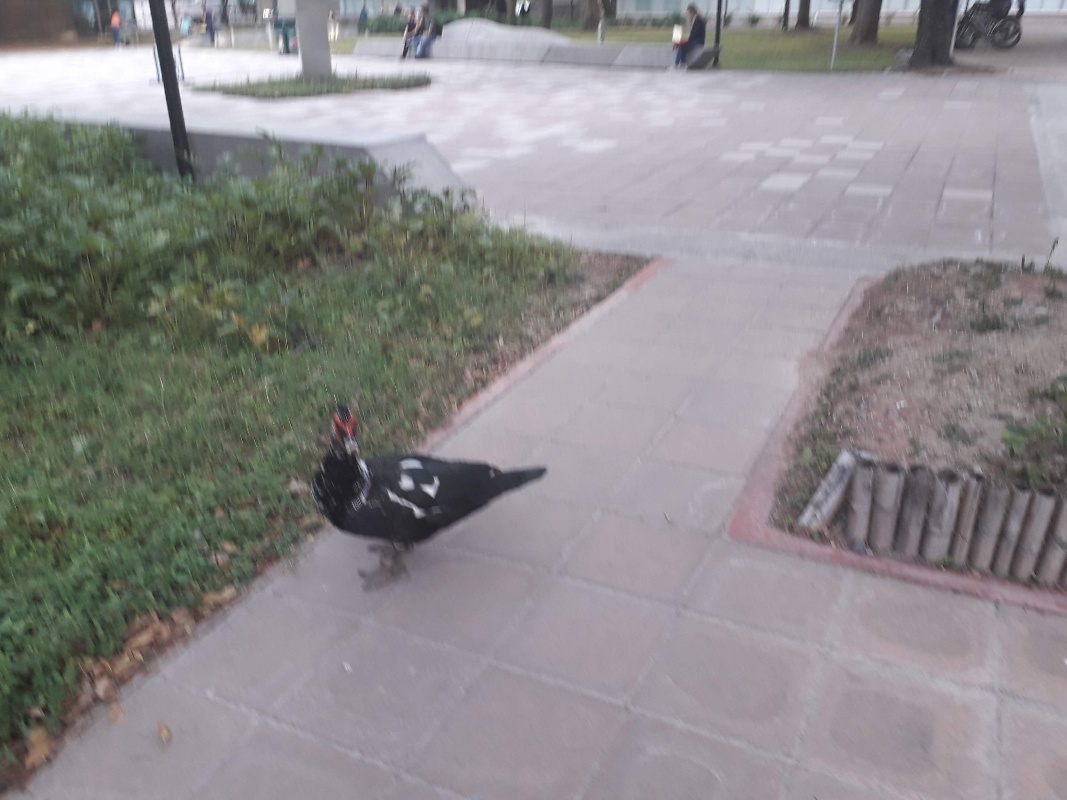pato: (314, 406, 554, 576)
